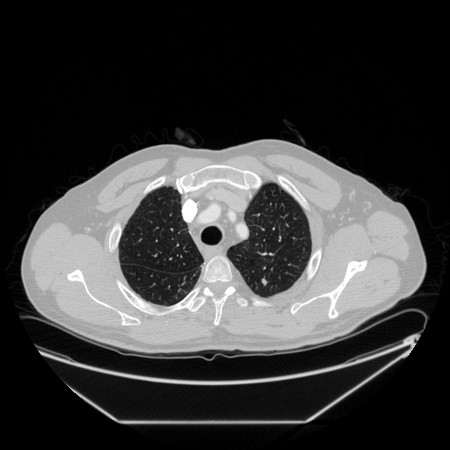nodule: (261, 278, 267, 284)
